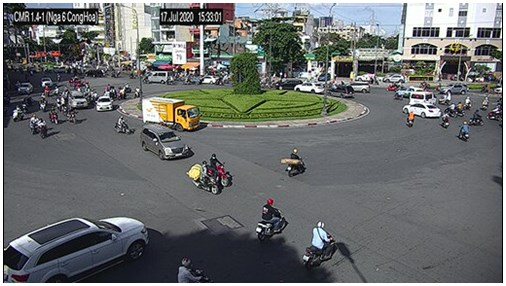xe_hoi: (4, 218, 150, 283), (139, 124, 190, 161), (402, 104, 440, 117), (292, 81, 323, 94), (68, 90, 88, 109), (273, 79, 304, 91), (439, 82, 469, 94), (327, 85, 354, 97), (94, 96, 114, 111), (347, 81, 369, 93), (382, 73, 405, 84), (196, 75, 219, 84), (84, 69, 105, 78), (18, 82, 33, 94), (356, 72, 373, 82), (40, 75, 51, 84), (492, 86, 503, 92)
xe_khach: (146, 71, 172, 84), (411, 92, 436, 105)
xe_may: (301, 220, 337, 271), (256, 198, 286, 241), (190, 161, 217, 195), (177, 258, 212, 282), (207, 153, 229, 188), (283, 148, 305, 178), (115, 116, 130, 134), (470, 108, 484, 127), (37, 116, 48, 139), (29, 114, 39, 136), (458, 121, 468, 142), (489, 105, 501, 122), (445, 102, 458, 115), (12, 106, 23, 121), (456, 101, 466, 117), (49, 108, 59, 123), (56, 95, 66, 110), (407, 110, 415, 128), (20, 101, 29, 116), (440, 113, 449, 128), (37, 96, 45, 112), (66, 108, 75, 122), (421, 78, 430, 92), (117, 87, 126, 101), (122, 82, 133, 93), (394, 89, 404, 101), (51, 85, 59, 98), (463, 96, 471, 109), (481, 95, 490, 106), (42, 84, 51, 94), (134, 87, 142, 98), (109, 87, 117, 97), (111, 69, 121, 77), (61, 86, 67, 96), (104, 84, 112, 91), (56, 74, 60, 80)
xe_tai: (141, 97, 198, 133)
